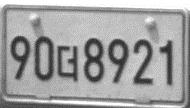0: (33, 35, 54, 81)
1: (158, 37, 175, 87)
2: (132, 38, 154, 85)
8: (82, 37, 105, 83)
9: (107, 37, 129, 83), (10, 35, 31, 81)
더: (55, 44, 79, 83)
